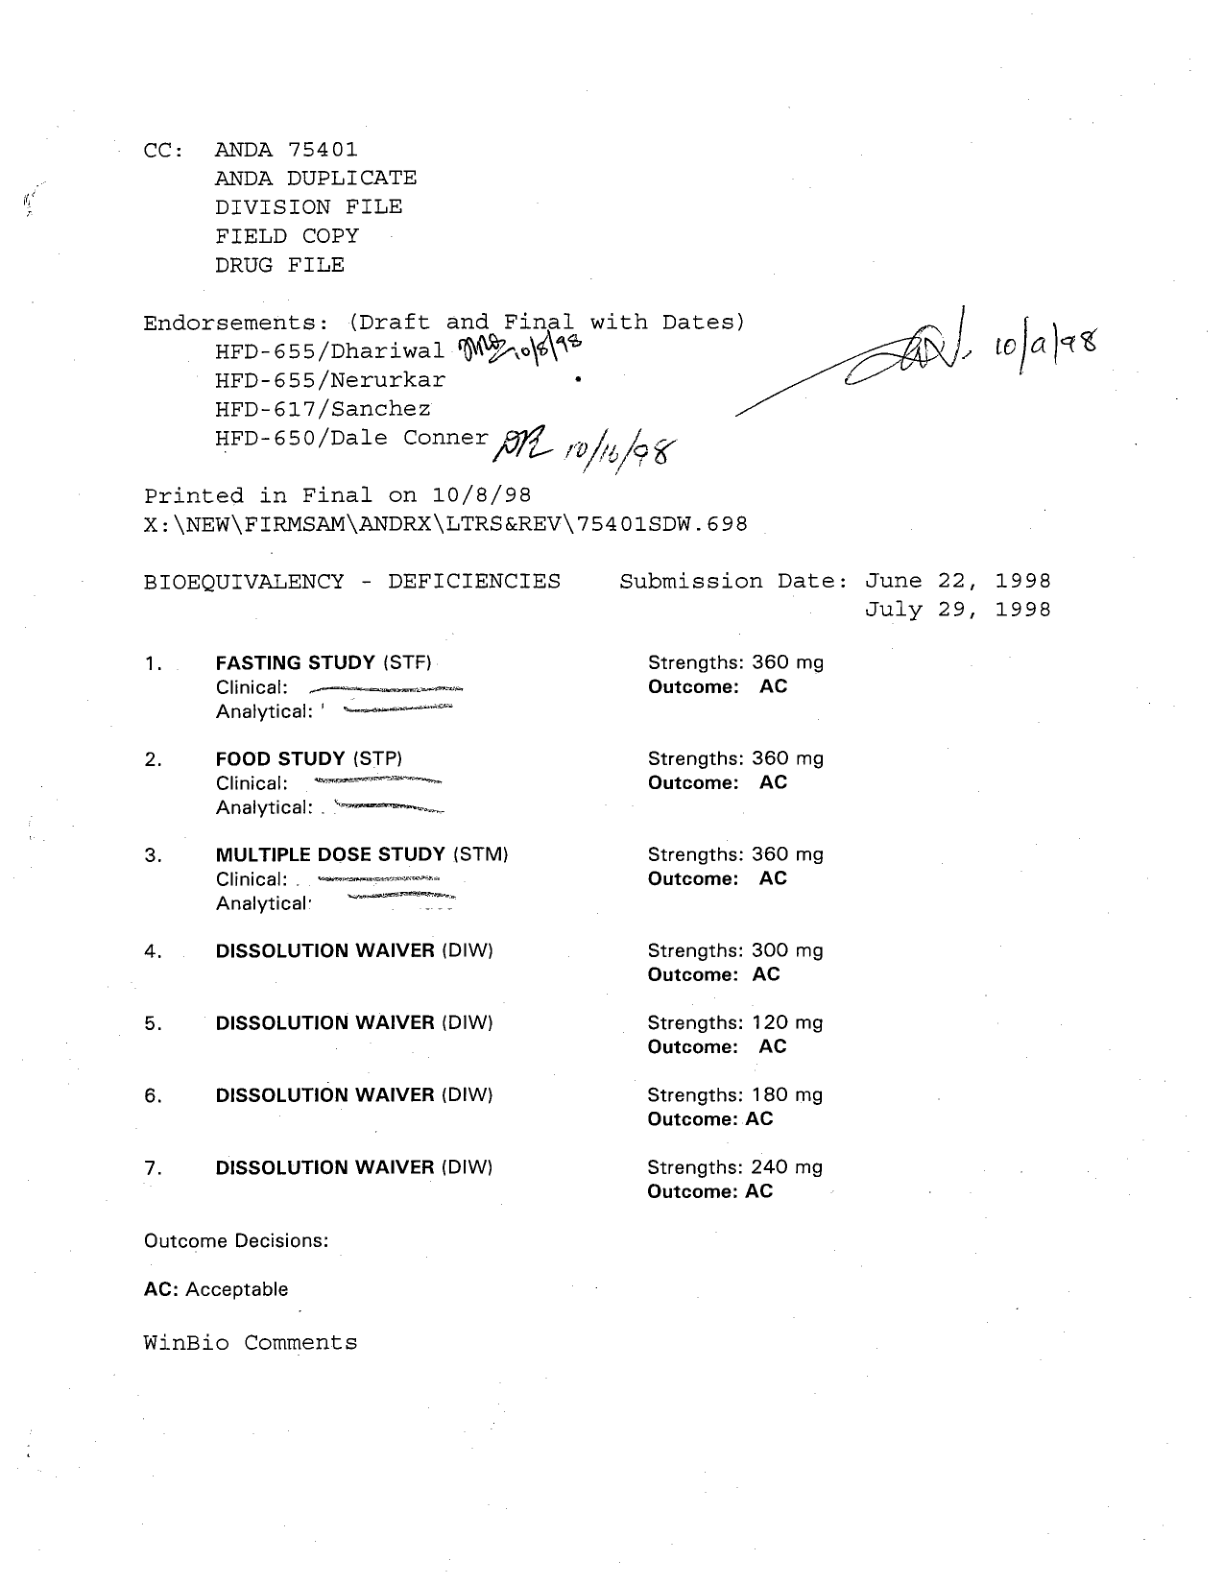nolines: (141, 649, 828, 1203)
